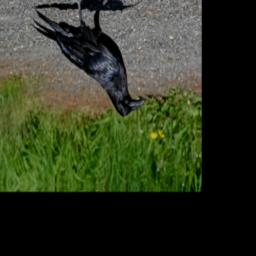Crow: (27, 0, 146, 118)
